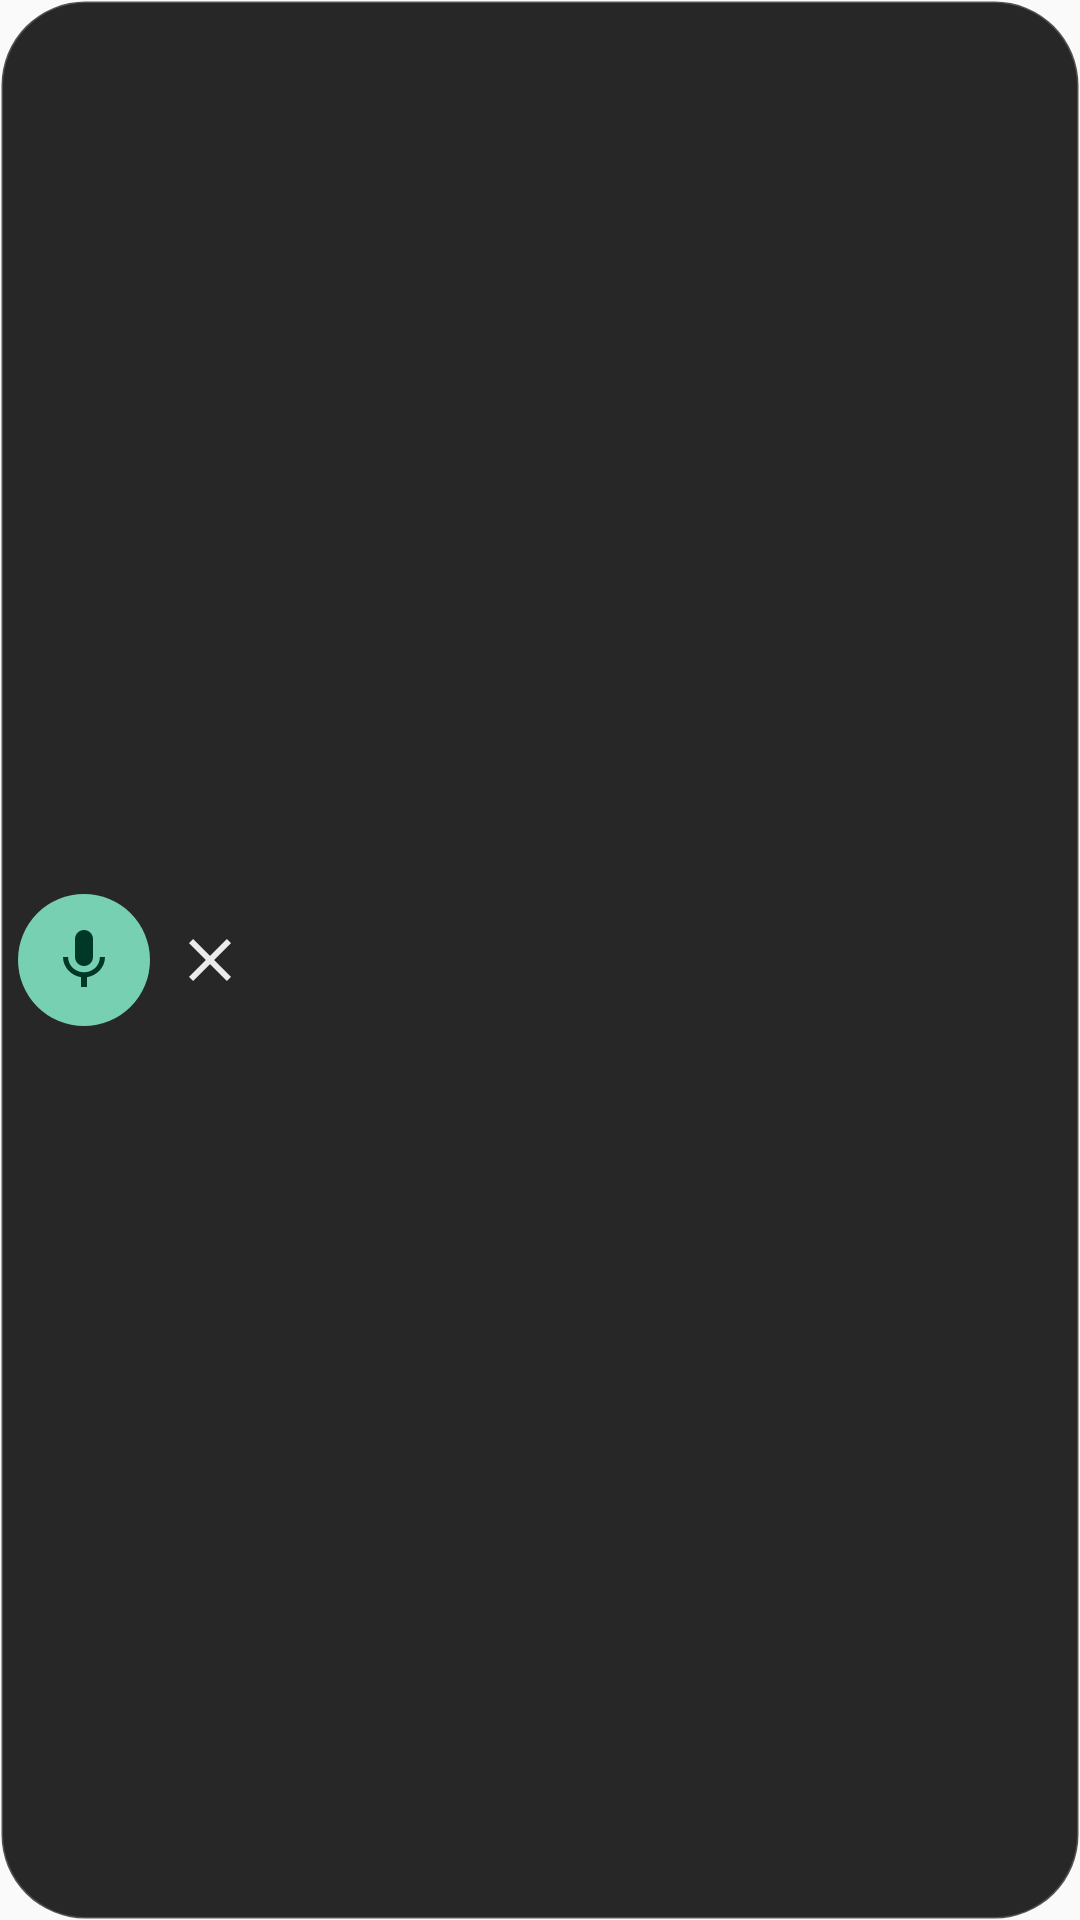

Icons on this 1080 × 1920 Android screen, each with its box as (x1, y1, x2, y2):
Cancel dictation: (189, 939, 231, 981)
Dictate: (18, 894, 150, 1026)
